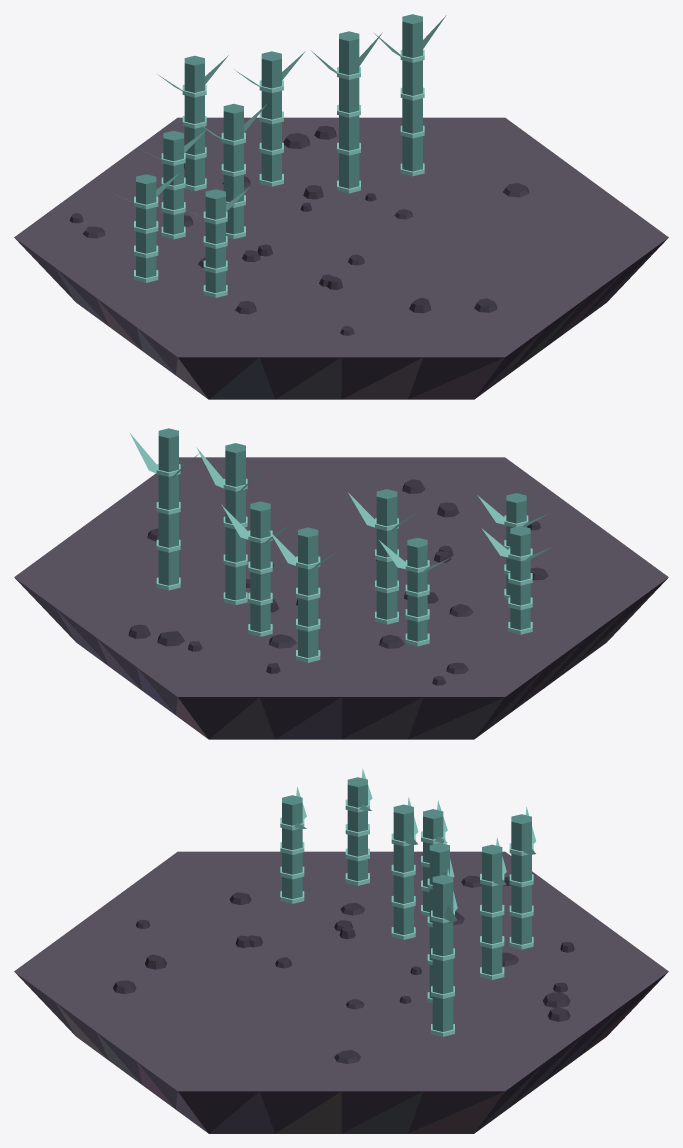
The model's file is space_tile_timber.glb.
The picture shows the model from 3 angles, top to bottom: view 1: azimuth 30°, elevation 25°; view 2: azimuth 150°, elevation 25°; view 3: azimuth 270°, elevation 25°; orthographic projection.
Visible parts, largest first — view 1: FixedDetails, BrassTrim; view 2: FixedDetails, BrassTrim; view 3: FixedDetails, BrassTrim.
Boxes of the visible parts, bbox=[...] form: FixedDetails: bbox=[14, 14, 668, 399]; BrassTrim: bbox=[134, 50, 424, 297]; FixedDetails: bbox=[14, 428, 668, 739]; BrassTrim: bbox=[156, 464, 532, 662]; FixedDetails: bbox=[14, 768, 668, 1133]; BrassTrim: bbox=[280, 799, 533, 1036].
Size of the model in its own units: 1.73 by 0.73 by 2.
